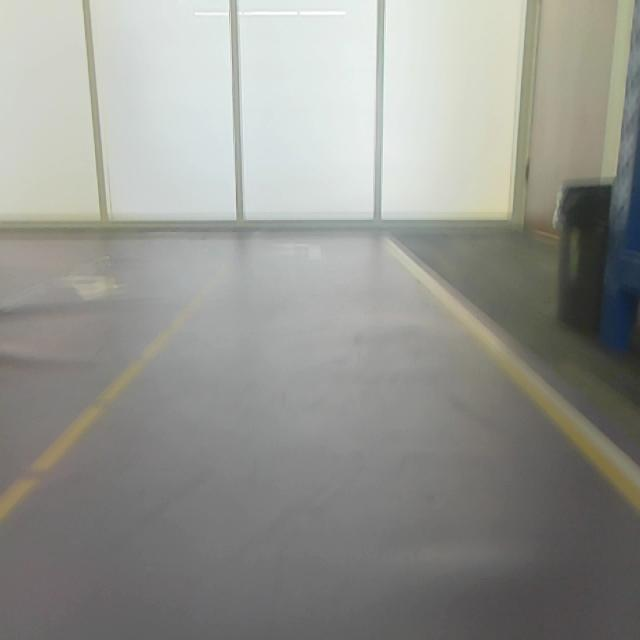left_lane: (0, 263, 229, 515)
right_lane: (387, 243, 639, 515)
